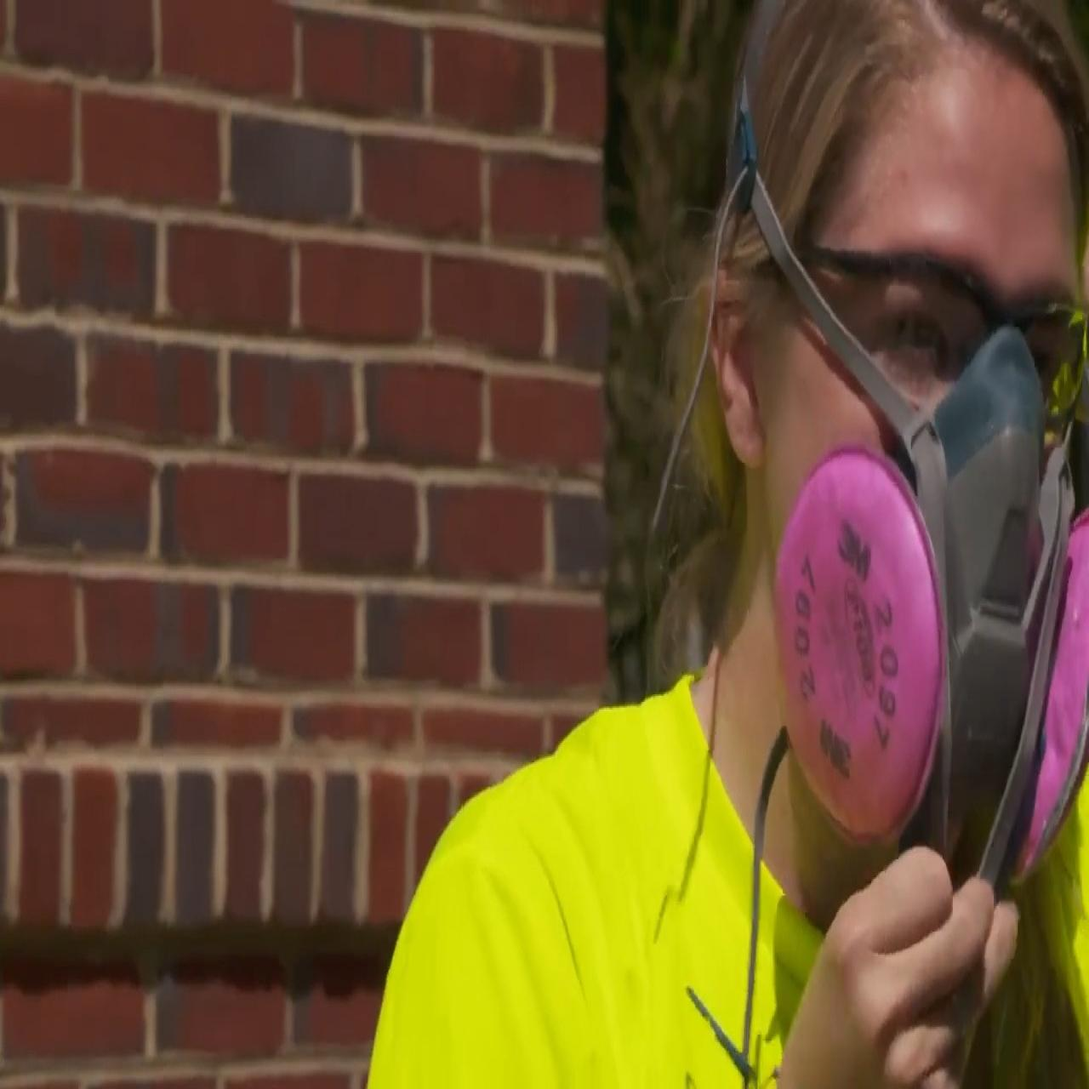NO_Safety_Vest: (497, 677, 1089, 1089)
Person: (362, 0, 1089, 1089)
